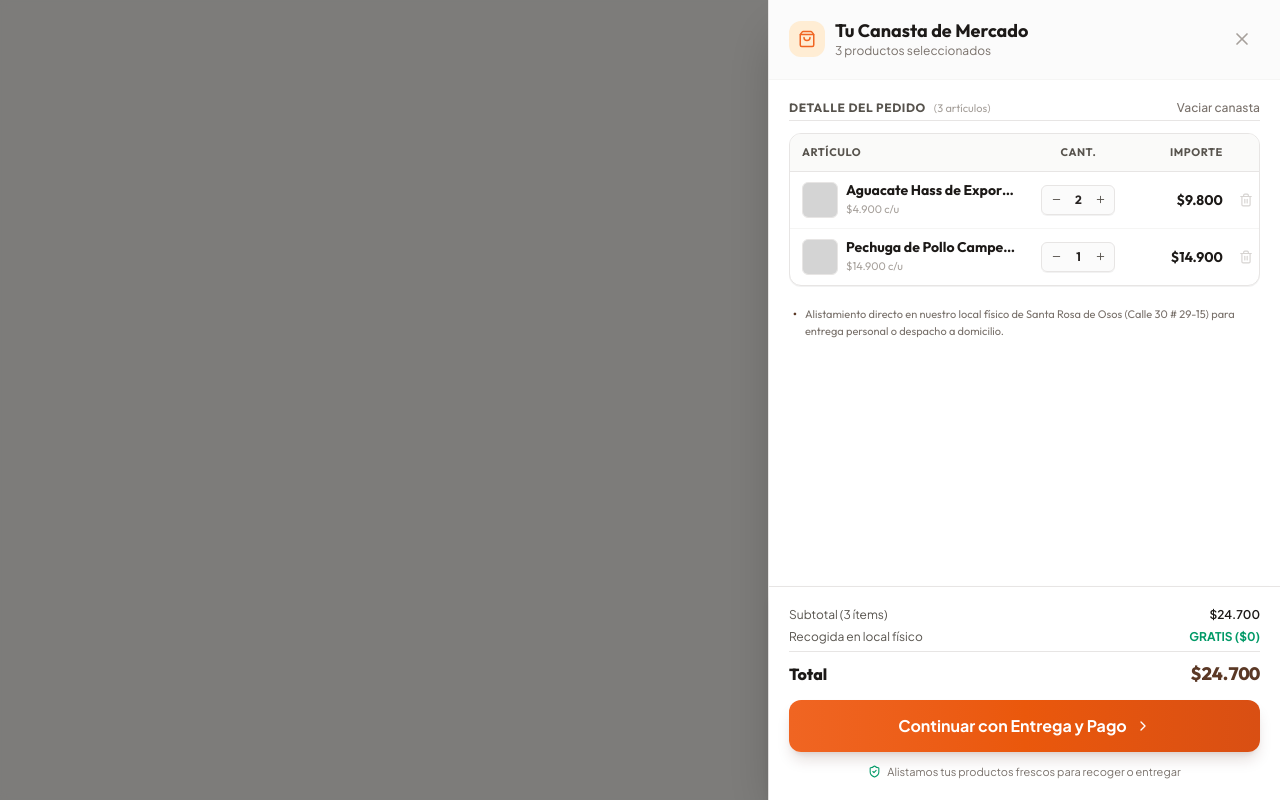
Test: CheckoutDrawer Component › allows selecting Santa Rosa de Osos neighborhood during checkout only when Domicilio is selected
The width and height of the screenshot is (1280, 800).
Click the button "Continuar con Entrega y Pago" at (1024, 726), box x1=789 y1=700 x2=1260 y2=752
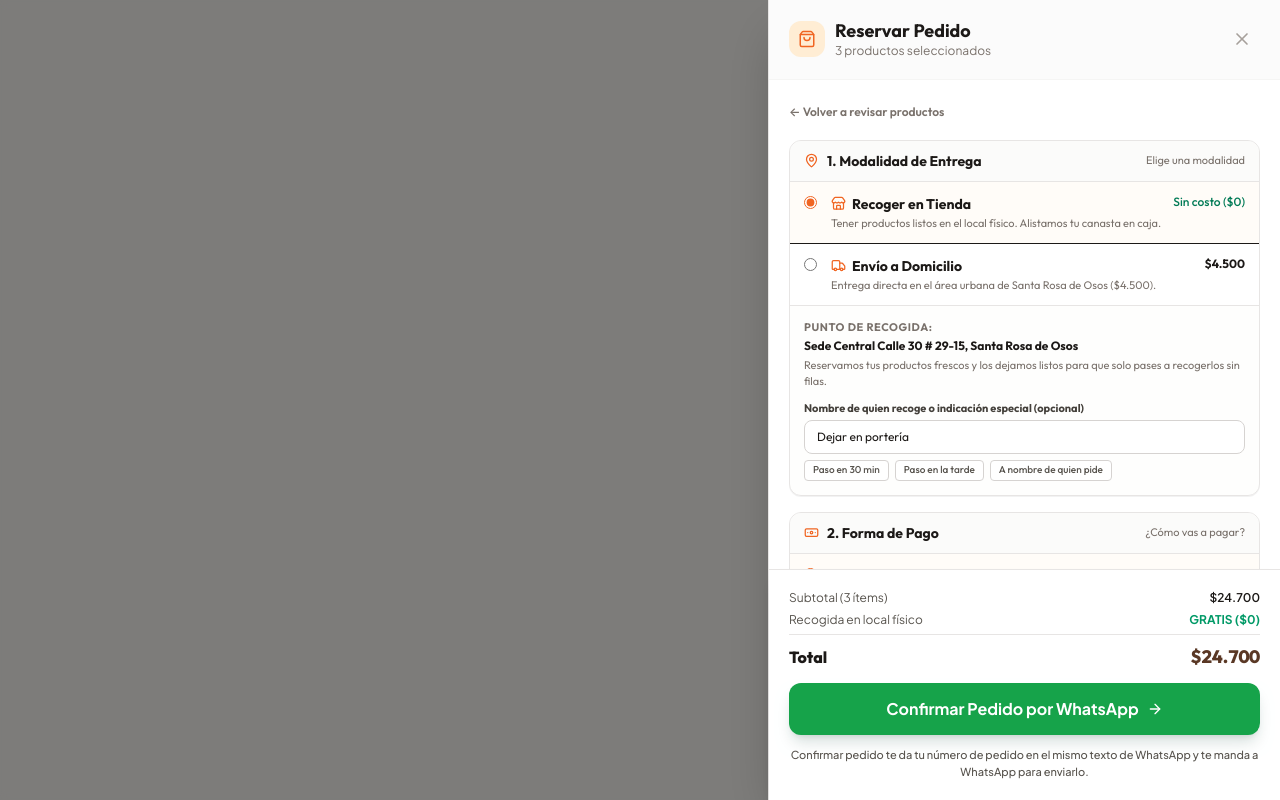
Expected: the field labelled "Barrio / Sector en Santa Rosa" is not shown
Switch to Domicilio
Click the text "Envío a Domicilio" at (907, 266), box x1=852 y1=256 x2=962 y2=276
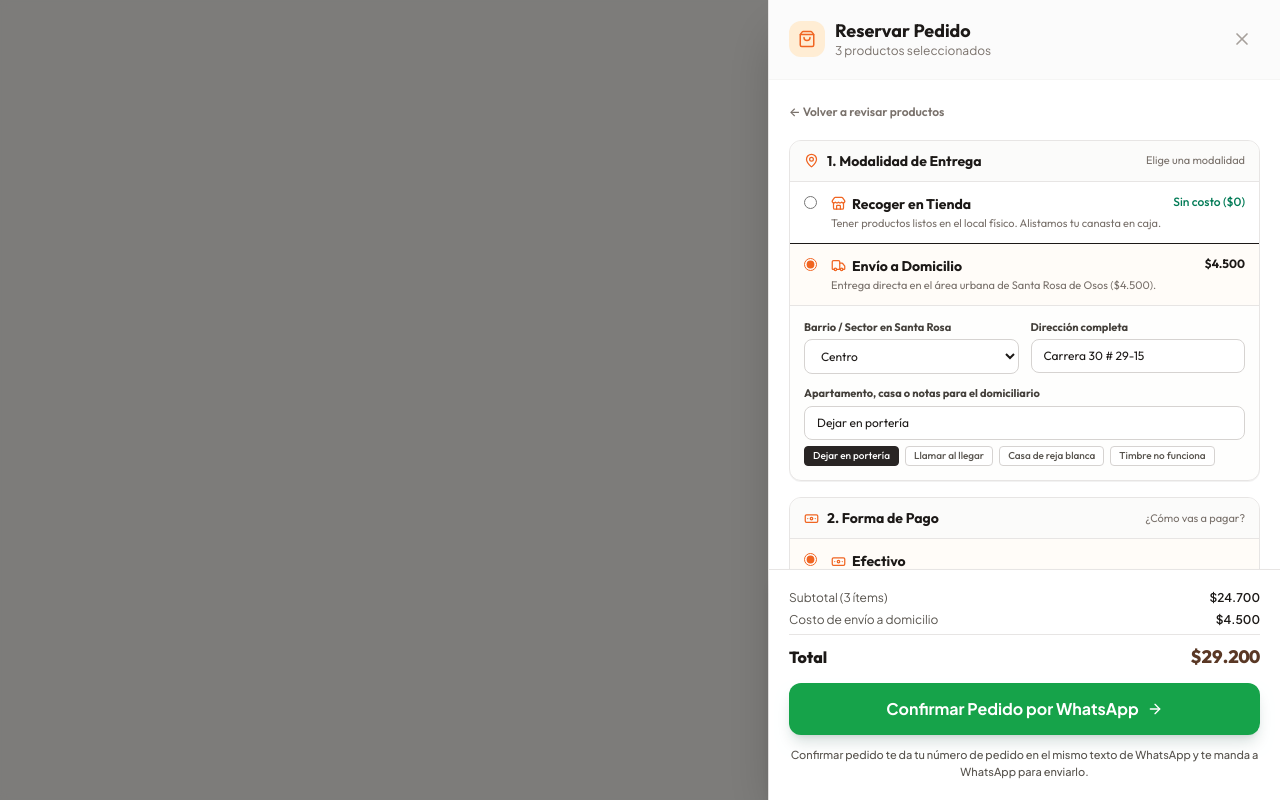
Expected: the dropdown labelled "Barrio / Sector en Santa Rosa" is shown, x1=804 y1=340 x2=1018 y2=374
Expected: the field labelled "Dirección completa" is shown, x1=1030 y1=340 x2=1245 y2=374
